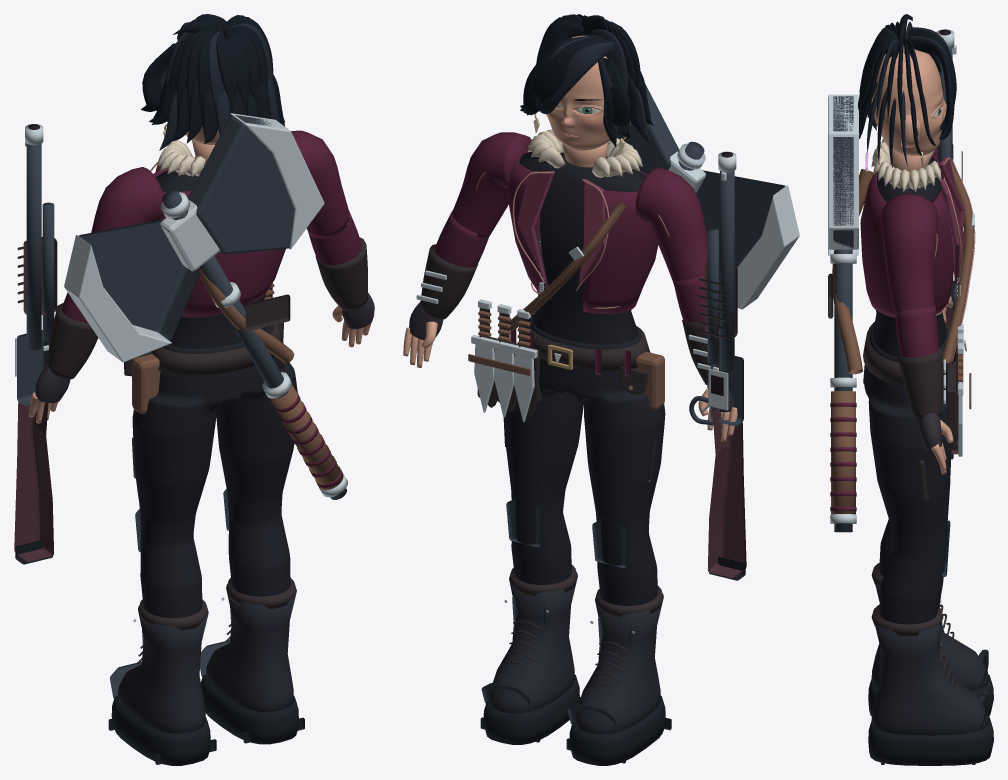
The model's file is slayer.glb.
The picture shows the model from 3 angles, left to right: view 1: azimuth 30°, elevation 25°; view 2: azimuth 150°, elevation 25°; view 3: azimuth 270°, elevation 25°; orthographic projection. The views are drawn at different scales.
Visible parts, largest first — view 1: Slayer_BackAxe, Slayer_Pelvis, Slayer_Hair, Slayer_Shotgun, Slayer_Foot.R, Slayer_Foot.L, Slayer_Jacket.Torso, Slayer_Forearm.L, Slayer_UpperArm.R, Slayer_UpperArm.L, Slayer_Forearm.R, Slayer_Torso (+2 smaller); view 2: Slayer_Pelvis, Slayer_Jacket.Torso, Slayer_Shotgun, Slayer_Foot.R, Slayer_Foot.L, Slayer_BackAxe, Slayer_Hair, Slayer_Torso, Slayer_UpperArm.R, Slayer_UpperArm.L, Slayer_Forearm.L, Slayer_Face (+4 smaller); view 3: Slayer_Pelvis, Slayer_Foot.L, Slayer_Jacket.Torso, Slayer_BackAxe, Slayer_Hair, Slayer_UpperArm.L, Slayer_Forearm.L, Slayer_Face, Slayer_Foot.R, Slayer_Torso, Slayer_Shotgun, Slayer_Hand.L (+2 smaller).
Boxes of the visible parts, x1,y1,x2,y2 form: Slayer_BackAxe: [64, 113, 347, 499]; Slayer_Pelvis: [124, 283, 297, 618]; Slayer_Hair: [141, 14, 284, 150]; Slayer_Shotgun: [14, 124, 57, 564]; Slayer_Foot.R: [108, 599, 216, 765]; Slayer_Foot.L: [200, 578, 304, 744]; Slayer_Jacket.Torso: [150, 140, 294, 363]; Slayer_Forearm.L: [308, 211, 367, 310]; Slayer_UpperArm.R: [91, 167, 164, 232]; Slayer_UpperArm.L: [291, 130, 349, 238]; Slayer_Forearm.R: [43, 292, 98, 379]; Slayer_Torso: [155, 157, 269, 348]; Slayer_Pelvis: [468, 299, 665, 605]; Slayer_Jacket.Torso: [507, 129, 658, 330]; Slayer_Shotgun: [689, 151, 746, 580]; Slayer_Foot.R: [566, 586, 671, 765]; Slayer_Foot.L: [480, 565, 580, 744]; Slayer_BackAxe: [616, 83, 799, 309]; Slayer_Hair: [520, 14, 652, 147]; Slayer_Torso: [519, 151, 645, 344]; Slayer_UpperArm.R: [635, 167, 707, 283]; Slayer_UpperArm.L: [452, 132, 531, 239]; Slayer_Forearm.L: [416, 210, 488, 319]; Slayer_Face: [546, 35, 610, 150]; Slayer_Pelvis: [863, 316, 971, 624]; Slayer_Foot.L: [868, 604, 993, 765]; Slayer_Jacket.Torso: [828, 139, 975, 374]; Slayer_BackAxe: [828, 94, 868, 532]; Slayer_Hair: [858, 14, 956, 167]; Slayer_UpperArm.L: [880, 193, 938, 316]; Slayer_Forearm.L: [895, 305, 945, 418]; Slayer_Face: [871, 45, 946, 155]; Slayer_Foot.R: [868, 563, 993, 716]; Slayer_Torso: [873, 159, 946, 356]; Slayer_Shotgun: [936, 29, 962, 459]; Slayer_Hand.L: [917, 413, 953, 474].
Size of the model in its own units: 0.9348 by 1.86 by 0.3944.
